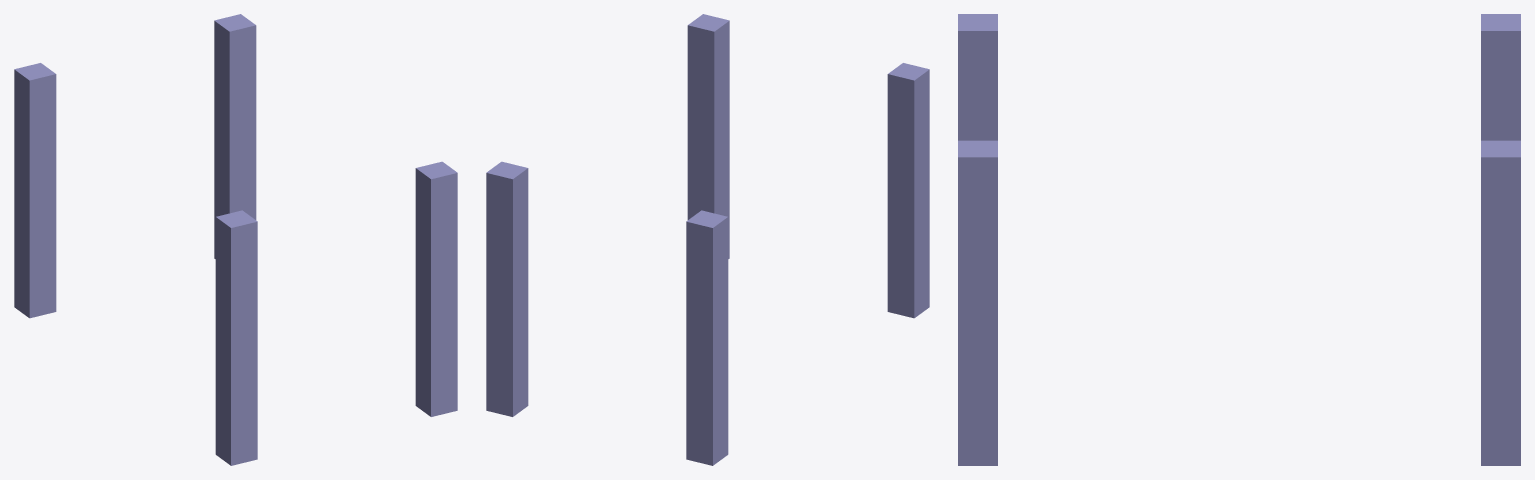
The model's file is GDCTableLeg.gltf.
The picture shows the model from 3 angles, left to right: view 1: azimuth 30°, elevation 25°; view 2: azimuth 150°, elevation 25°; view 3: azimuth 270°, elevation 25°; orthographic projection. The views are drawn at different scales.
Parts seen in each view (by area): view 1: logicGDCTableLeg_pv0x220d990, logicGDCTableLeg_pv0x220d958, logicGDCTableLeg_pv0x220da00, logicGDCTableLeg_pv0x220d9c8; view 2: logicGDCTableLeg_pv0x220d958, logicGDCTableLeg_pv0x220d990, logicGDCTableLeg_pv0x220d9c8, logicGDCTableLeg_pv0x220da00; view 3: logicGDCTableLeg_pv0x220d9c8, logicGDCTableLeg_pv0x220da00, logicGDCTableLeg_pv0x220d958, logicGDCTableLeg_pv0x220d990.
Boxes of the visible parts, x1,y1,x2,y2 form: logicGDCTableLeg_pv0x220d990: (215, 210, 257, 465); logicGDCTableLeg_pv0x220d958: (14, 63, 56, 318); logicGDCTableLeg_pv0x220da00: (415, 161, 457, 416); logicGDCTableLeg_pv0x220d9c8: (214, 14, 256, 258); logicGDCTableLeg_pv0x220d958: (686, 210, 728, 465); logicGDCTableLeg_pv0x220d990: (887, 63, 929, 318); logicGDCTableLeg_pv0x220d9c8: (486, 161, 528, 416); logicGDCTableLeg_pv0x220da00: (687, 14, 729, 258); logicGDCTableLeg_pv0x220d9c8: (1481, 140, 1520, 465); logicGDCTableLeg_pv0x220da00: (958, 140, 997, 465); logicGDCTableLeg_pv0x220d958: (1481, 14, 1520, 140); logicGDCTableLeg_pv0x220d990: (958, 14, 997, 140).
Bounding box in the file's own units: 128 × 128 × 212.
